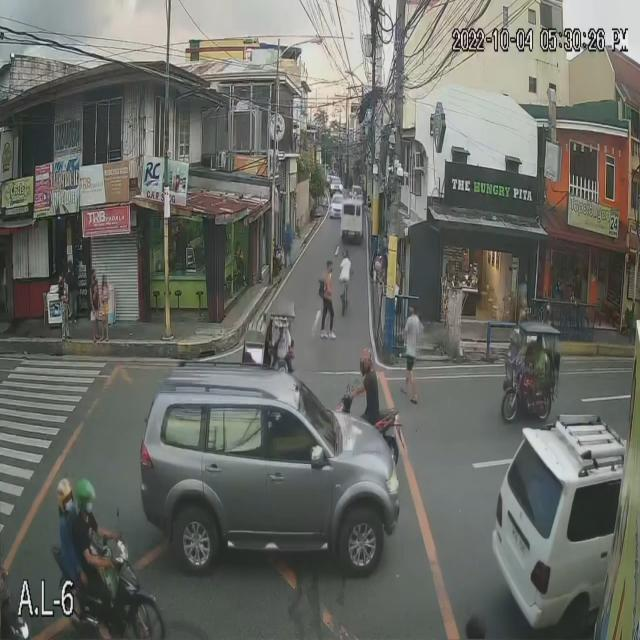full: (358, 348, 374, 376)
half: (77, 478, 95, 518), (56, 478, 74, 514)
